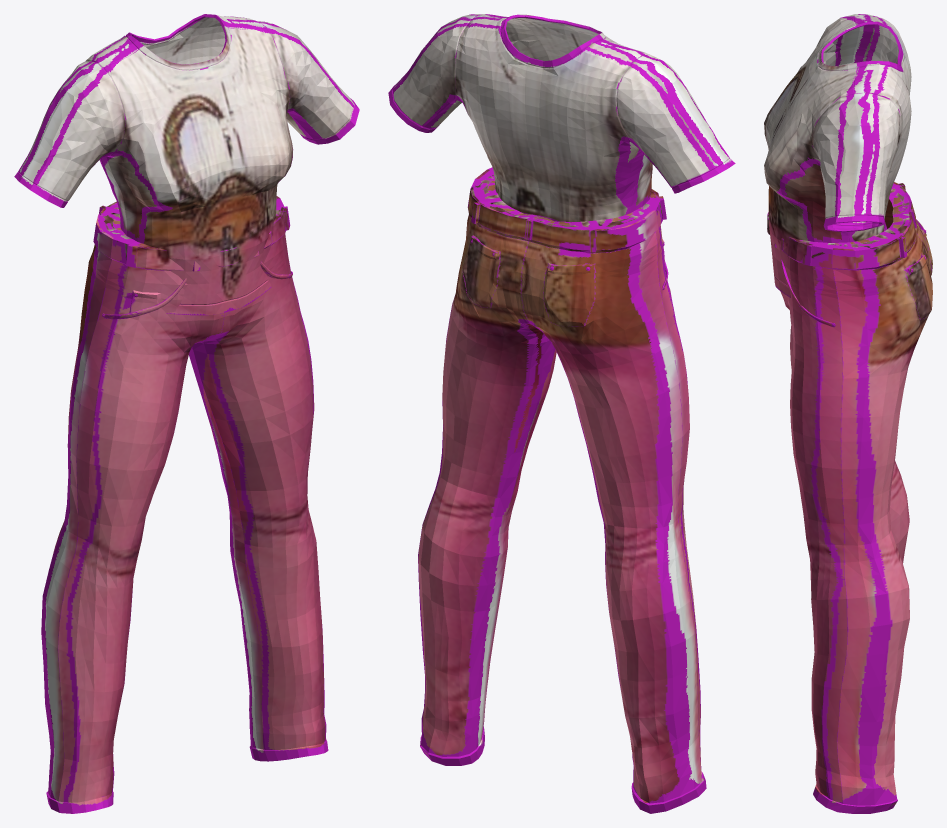
The picture shows the model from 3 angles, left to right: view 1: azimuth 30°, elevation 25°; view 2: azimuth 150°, elevation 25°; view 3: azimuth 270°, elevation 25°; orthographic projection. The views are drawn at different scales.
Bounding box in the file's own units: 0.3988 × 0.8574 × 0.1824.
1 material, 1 textured.
